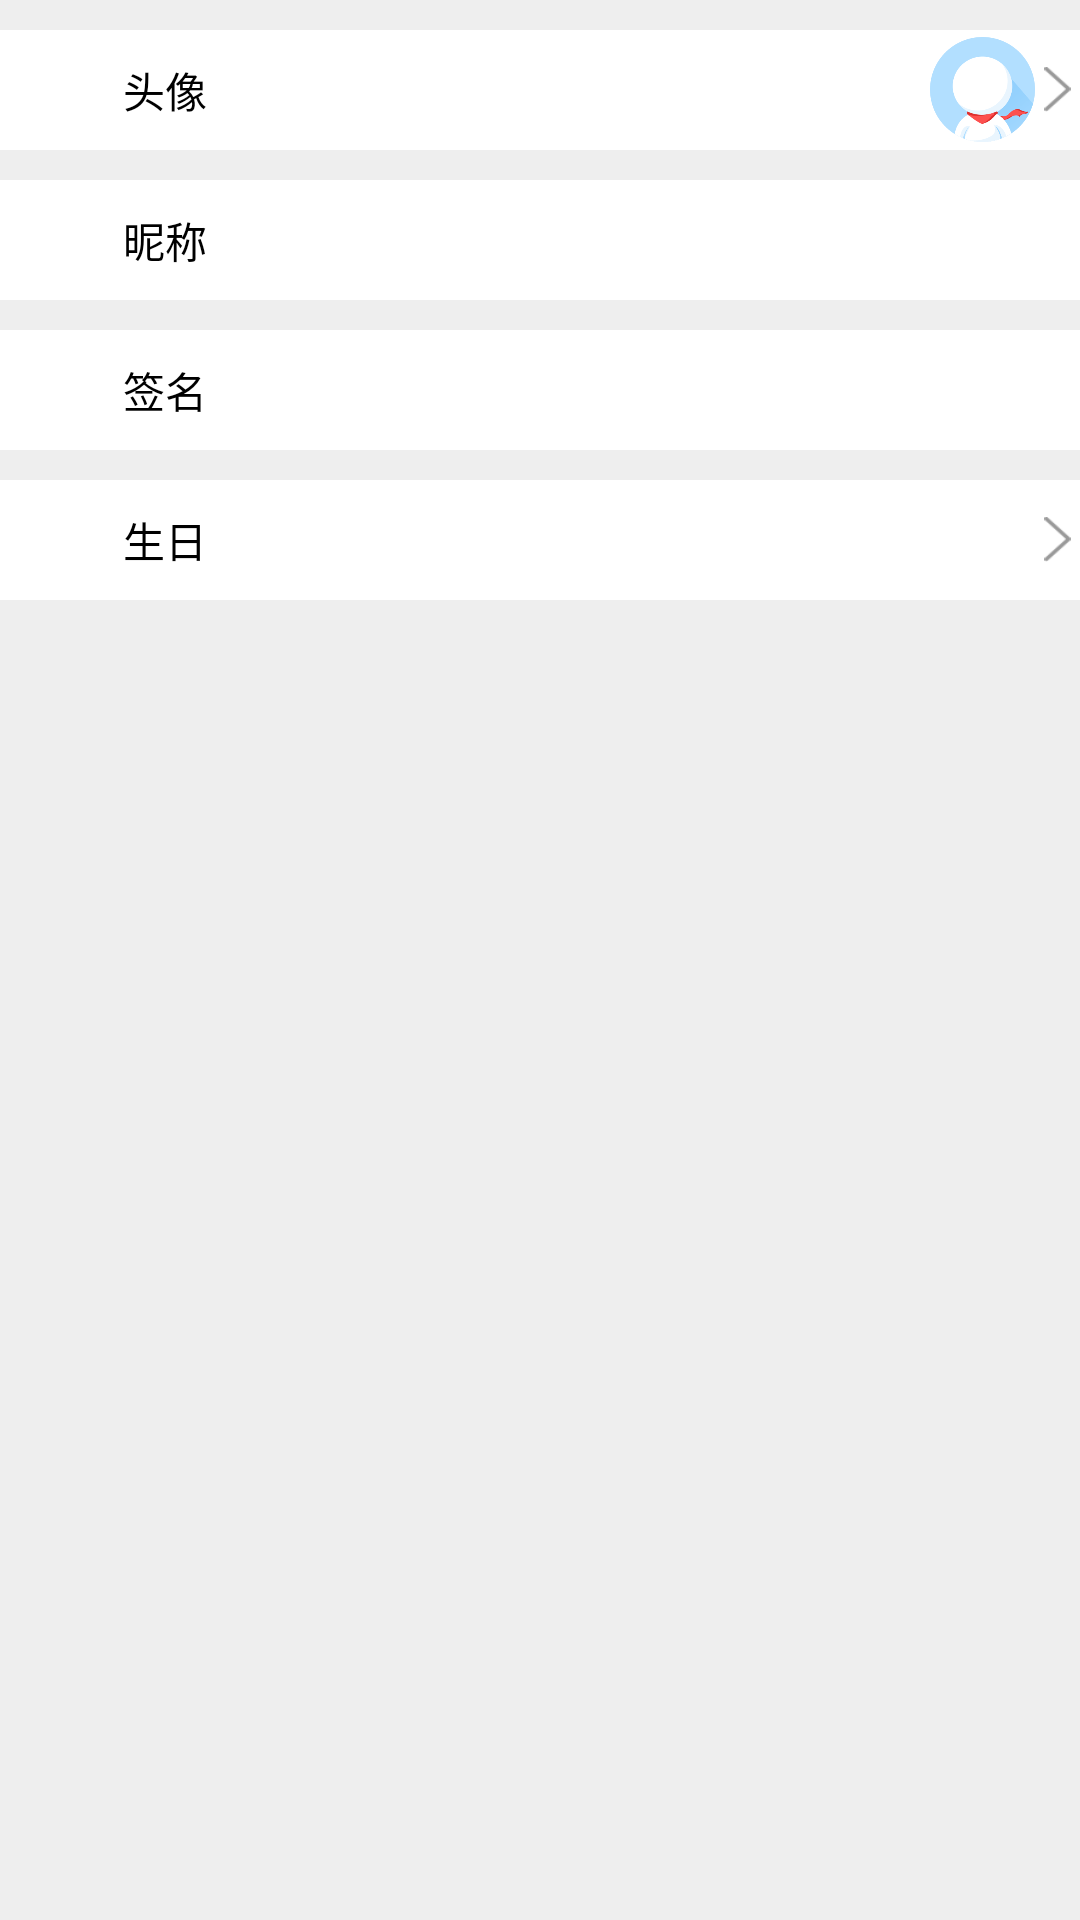

Named icons in this screenshot (1080*1920) and their centers, (x,y):
list item next: (1057,89), (1057,539)
user: (982,89)
